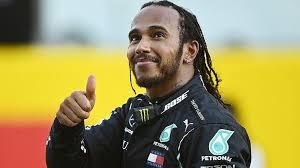Persons: (117, 2, 204, 94)
